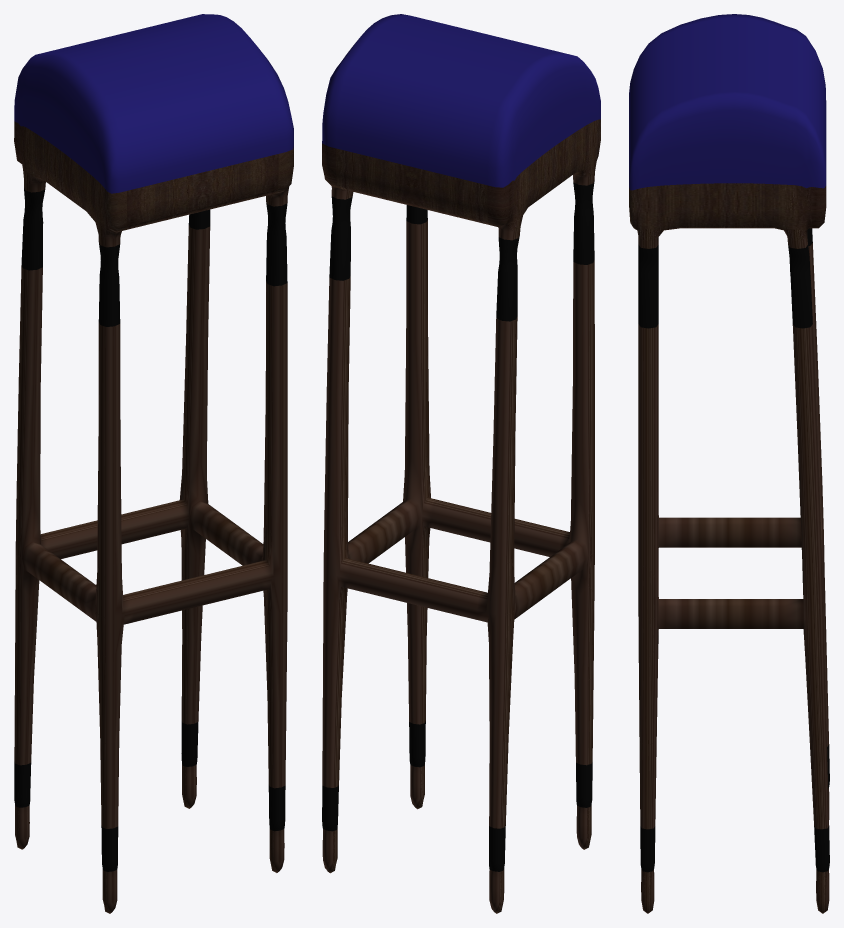
Rendered from New_Bar_Stool_01a.FBX.
3 renders of one model, left to right at view 1: azimuth 30°, elevation 25°; view 2: azimuth 150°, elevation 25°; view 3: azimuth 270°, elevation 25°, orthographic.
Visible parts, largest first — view 1: New Bar Chair 2; view 2: New Bar Chair 2; view 3: New Bar Chair 2.
Boxes of the visible parts, x1,y1,x2,y2 form: New Bar Chair 2: [14, 14, 293, 913]; New Bar Chair 2: [322, 14, 600, 913]; New Bar Chair 2: [629, 14, 829, 913].
Bounding box in the file's own units: 11.4 × 47.88 × 10.65.
3 materials, 2 textured.
